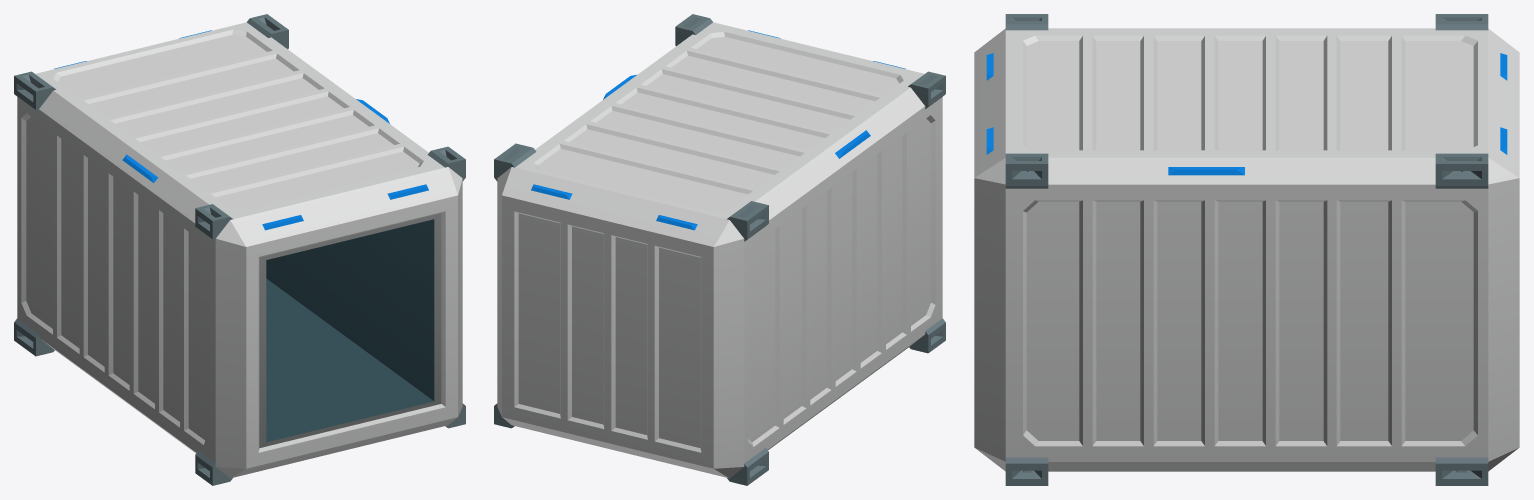
Rendered from Container_type_B_008.glb.
The picture shows the model from 3 angles, left to right: view 1: azimuth 30°, elevation 25°; view 2: azimuth 150°, elevation 25°; view 3: azimuth 270°, elevation 25°; orthographic projection. The views are drawn at different scales.
Visible parts, largest first — view 1: Container_type_B_008; view 2: Container_type_B_008; view 3: Container_type_B_008.
Boxes of the visible parts, <box> form: Container_type_B_008: <box>14,14,465,485</box>; Container_type_B_008: <box>494,14,945,485</box>; Container_type_B_008: <box>974,14,1519,485</box>.
Size of the model in its own units: 2.46 by 2.46 by 3.78.
Materials: 2 (2 with a texture image).
